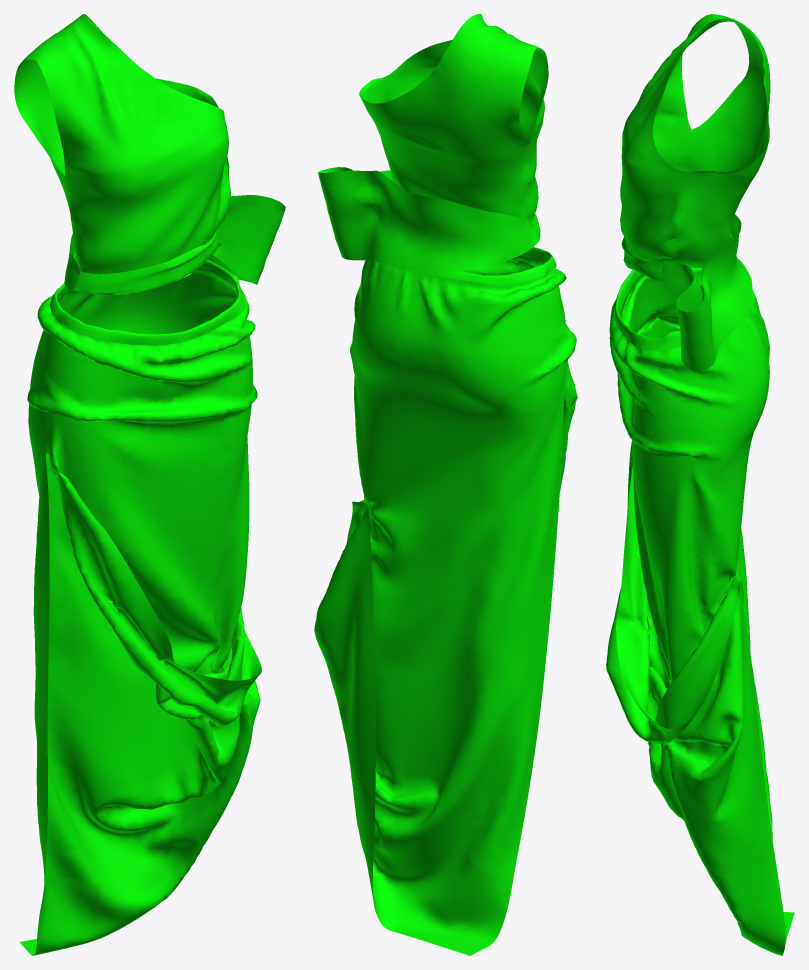
The model's file is female dress3.glb.
3 views of the same model, side by side, from view 1: azimuth 30°, elevation 25°; view 2: azimuth 150°, elevation 25°; view 3: azimuth 270°, elevation 25° (orthographic). The views are drawn at different scales.
Visible parts, largest first — view 1: Silk dress; view 2: Silk dress; view 3: Silk dress.
Boxes of the visible parts, box(x1,y1,x2,y2) form: Silk dress: box(14, 14, 285, 955); Silk dress: box(314, 14, 577, 955); Silk dress: box(606, 14, 794, 955).
Size of the model in its own units: 0.4562 by 1.63 by 0.3062.
